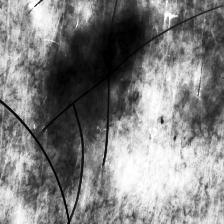Benign Marking or Mole: (50, 16, 144, 101)
